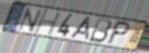4: (56, 13, 74, 38)
A: (69, 16, 92, 42)
B: (88, 17, 114, 44)
H: (32, 10, 63, 37)
N: (16, 7, 44, 34)
P: (105, 20, 133, 46)
